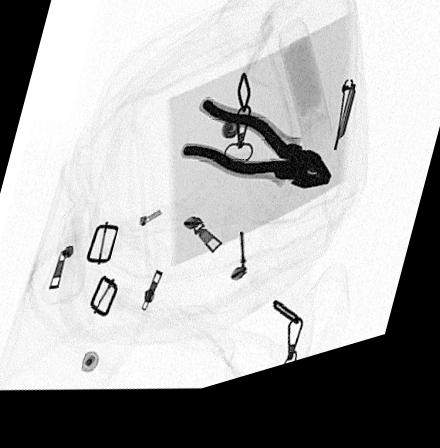Pliers: (182, 109, 334, 206)
